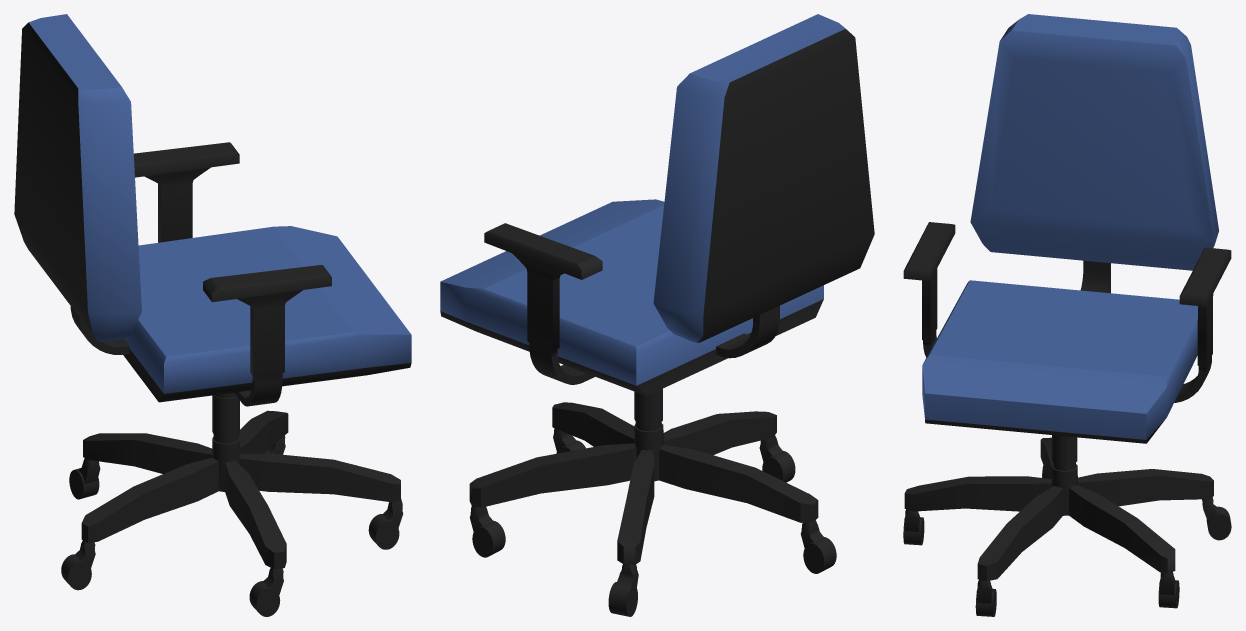
File: chair.fbx
3 views of the same model, side by side, from view 1: azimuth 30°, elevation 25°; view 2: azimuth 150°, elevation 25°; view 3: azimuth 270°, elevation 25° (orthographic). The views are drawn at different scales.
Visible parts, largest first — view 1: Chair; view 2: Chair; view 3: Chair.
Boxes of the visible parts, x1,y1,x2,y2 form: Chair: (14,14,411,616); Chair: (440,14,874,616); Chair: (903,14,1231,616).
Size of the model in its own units: 191 by 281 by 176.
